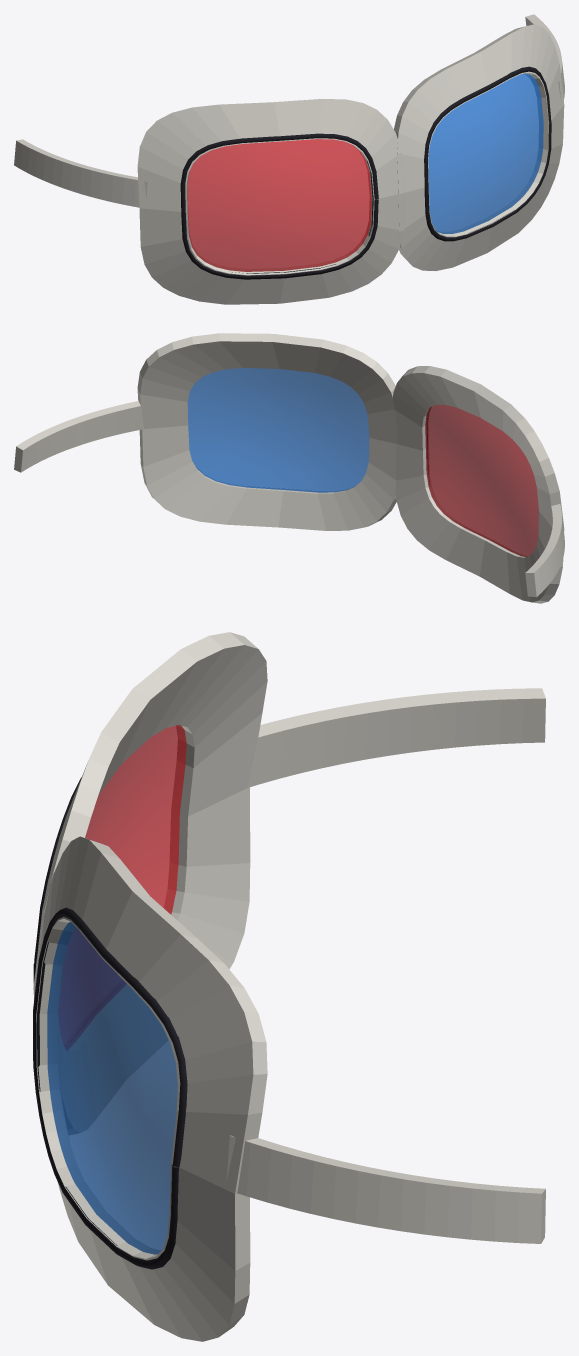
File: acc_3d_glasses.glb
3 views of the same model, one above another, from view 1: azimuth 30°, elevation 25°; view 2: azimuth 150°, elevation 25°; view 3: azimuth 270°, elevation 25° (orthographic). The views are drawn at different scales.
Visible parts, largest first — view 1: Acc3dGlasses; view 2: Acc3dGlasses; view 3: Acc3dGlasses.
Boxes of the visible parts, box(x1,y1,x2,y2) form: Acc3dGlasses: box(14, 14, 564, 304); Acc3dGlasses: box(14, 333, 564, 603); Acc3dGlasses: box(33, 632, 545, 1341).
Bounding box in the file's own units: 0.5137 × 0.1851 × 0.2183.
